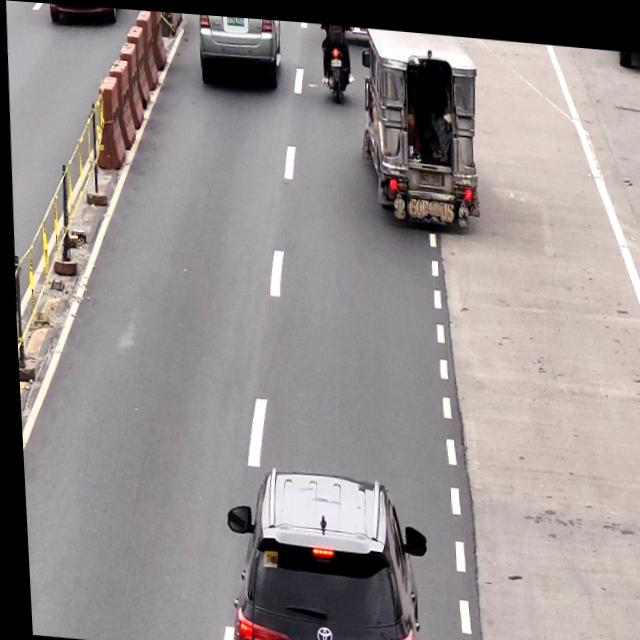Car: (224, 462, 411, 640), (195, 11, 281, 83)
Jeep: (351, 21, 481, 205)
License-Plate: (417, 159, 441, 182), (225, 13, 244, 24), (330, 52, 342, 62)
Motorcycle: (321, 19, 354, 98)
